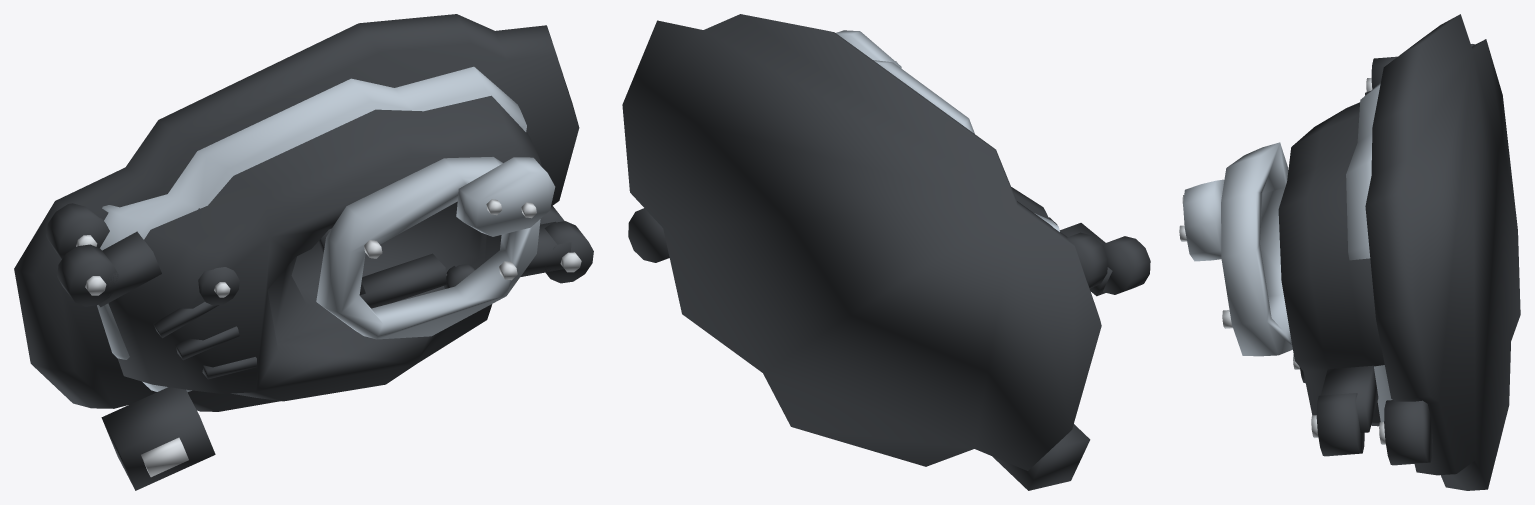
The model's file is hero-object.glb.
3 views of the same model, side by side, from view 1: azimuth 30°, elevation 25°; view 2: azimuth 150°, elevation 25°; view 3: azimuth 270°, elevation 25° (orthographic). The views are drawn at different scales.
Parts seen in each view (by area): view 1: HousingShell, BackplateBody, MachinedFlange, BracketBody, ConnectorBody, ServiceCap, CarrierRail_Lower, HousingEarBoss_UpperLeft, HousingEarStem_UpperLeft, BackplateBoss_0, HousingEarBoss_LowerRight, HousingEarStem_LowerRight (+5 smaller); view 2: BackplateBody, ConnectorBody, HousingEarBoss_UpperLeft, BackplateBoss_1, BackplateBoss_0, MachinedFlange, ServiceCap; view 3: BackplateBody, HousingShell, MachinedFlange, BracketBody, BackplateBoss_1, ServiceCap, HousingEarBoss_LowerRight, HousingEarStem_LowerRight, HousingEarBoss_UpperLeft.
Boxes of the visible parts, bbox=[...] form: HousingShell: bbox=[108, 95, 541, 401]; BackplateBody: bbox=[14, 14, 579, 411]; MachinedFlange: bbox=[316, 157, 540, 339]; BracketBody: bbox=[97, 66, 526, 392]; ConnectorBody: bbox=[101, 387, 215, 490]; ServiceCap: bbox=[456, 157, 555, 236]; CarrierRail_Lower: bbox=[360, 253, 446, 308]; HousingEarBoss_UpperLeft: bbox=[57, 244, 118, 306]; HousingEarStem_UpperLeft: bbox=[99, 231, 161, 307]; BackplateBoss_0: bbox=[46, 203, 109, 258]; HousingEarBoss_LowerRight: bbox=[544, 221, 593, 283]; HousingEarStem_LowerRight: bbox=[520, 221, 571, 276]; BackplateBody: bbox=[622, 14, 1101, 470]; ConnectorBody: bbox=[992, 424, 1090, 490]; HousingEarBoss_UpperLeft: bbox=[1102, 236, 1150, 294]; BackplateBoss_1: bbox=[628, 208, 669, 262]; BackplateBoss_0: bbox=[1066, 232, 1107, 288]; MachinedFlange: bbox=[873, 60, 974, 133]; ServiceCap: bbox=[836, 30, 901, 68]; BackplateBody: bbox=[1365, 14, 1520, 490]; HousingShell: bbox=[1278, 102, 1384, 426]; MachinedFlange: bbox=[1221, 142, 1292, 356]; BracketBody: bbox=[1346, 83, 1392, 422]; BackplateBoss_1: bbox=[1384, 400, 1432, 465]; ServiceCap: bbox=[1183, 179, 1224, 261]; HousingEarBoss_LowerRight: bbox=[1316, 393, 1364, 456]; HousingEarStem_LowerRight: bbox=[1320, 365, 1378, 432]; HousingEarBoss_UpperLeft: bbox=[1371, 56, 1397, 89].
Bounding box in the file's own units: 6.27 × 4.65 × 3.07.
